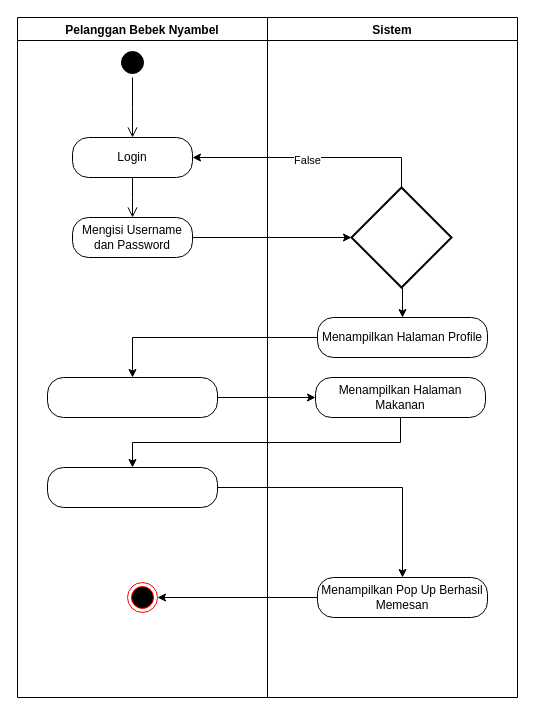
Some shapes in this 535 by 715 pixel diagram are drawn without their labels. The centre of each missing label's shape, as x and y in pixels:
"Memeriksa Username dan Password" goes at [401,237].
"Memilih Menu Makanan" goes at [132,397].
"Menekan Tombol Pesan" goes at [132,487].
